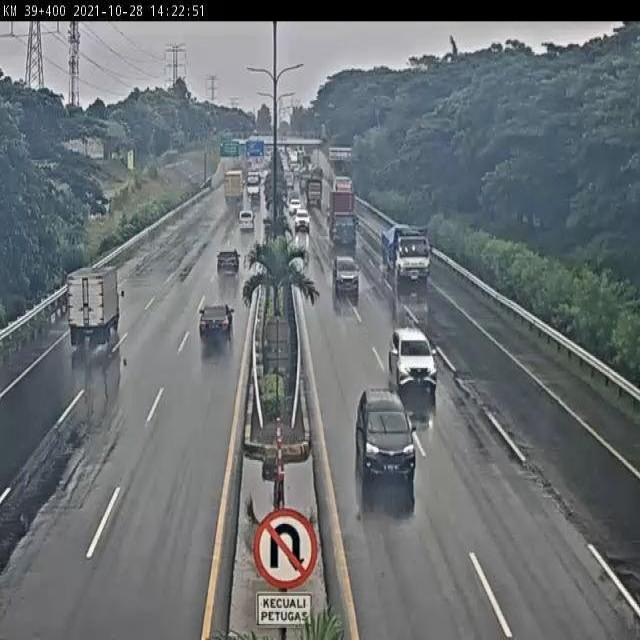ARABA: (357, 388, 415, 479), (390, 325, 440, 392)
KAMYONET: (67, 269, 119, 347)
TIR: (379, 226, 431, 282), (329, 192, 361, 252)
